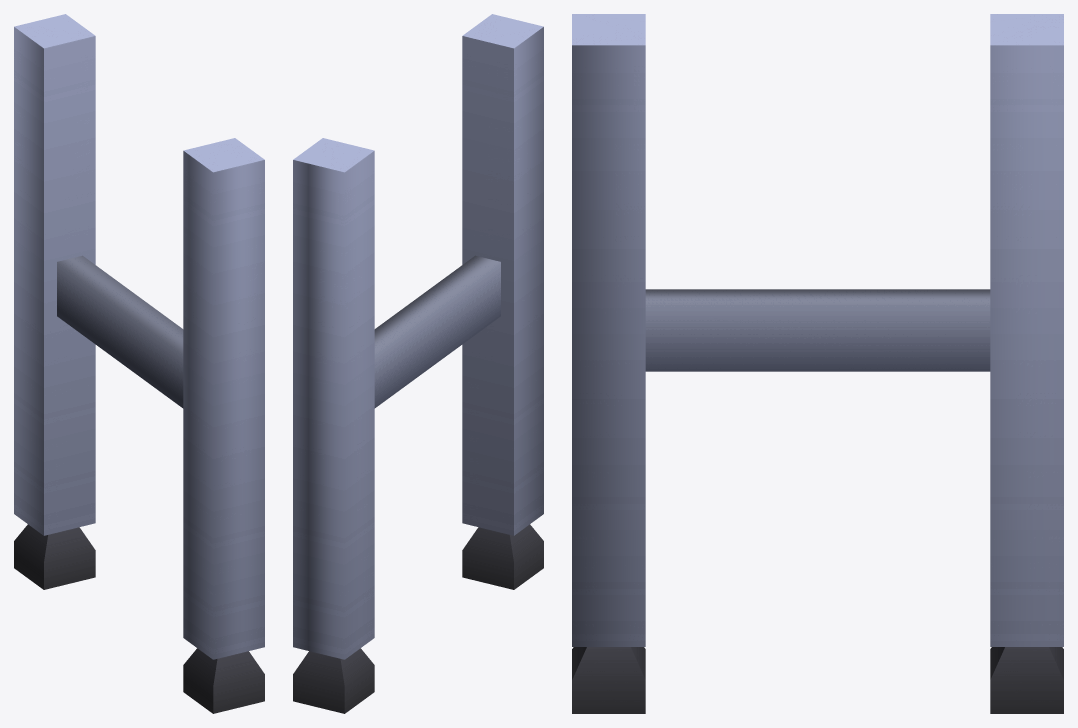
The model's file is structure-high.glb.
3 views of the same model, side by side, from view 1: azimuth 30°, elevation 25°; view 2: azimuth 150°, elevation 25°; view 3: azimuth 270°, elevation 25° (orthographic). The views are drawn at different scales.
Parts seen in each view (by area): view 1: structure-high; view 2: structure-high; view 3: structure-high.
Boxes of the visible parts, x1=… form: structure-high: x1=14, y1=14, x2=264, y2=713; structure-high: x1=293, y1=14, x2=543, y2=713; structure-high: x1=572, y1=14, x2=1063, y2=713.
Size of the model in its own units: 0.15 by 1.5 by 1.
1 material, 1 textured.
